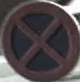No Stopping: (2, 2, 77, 79)
